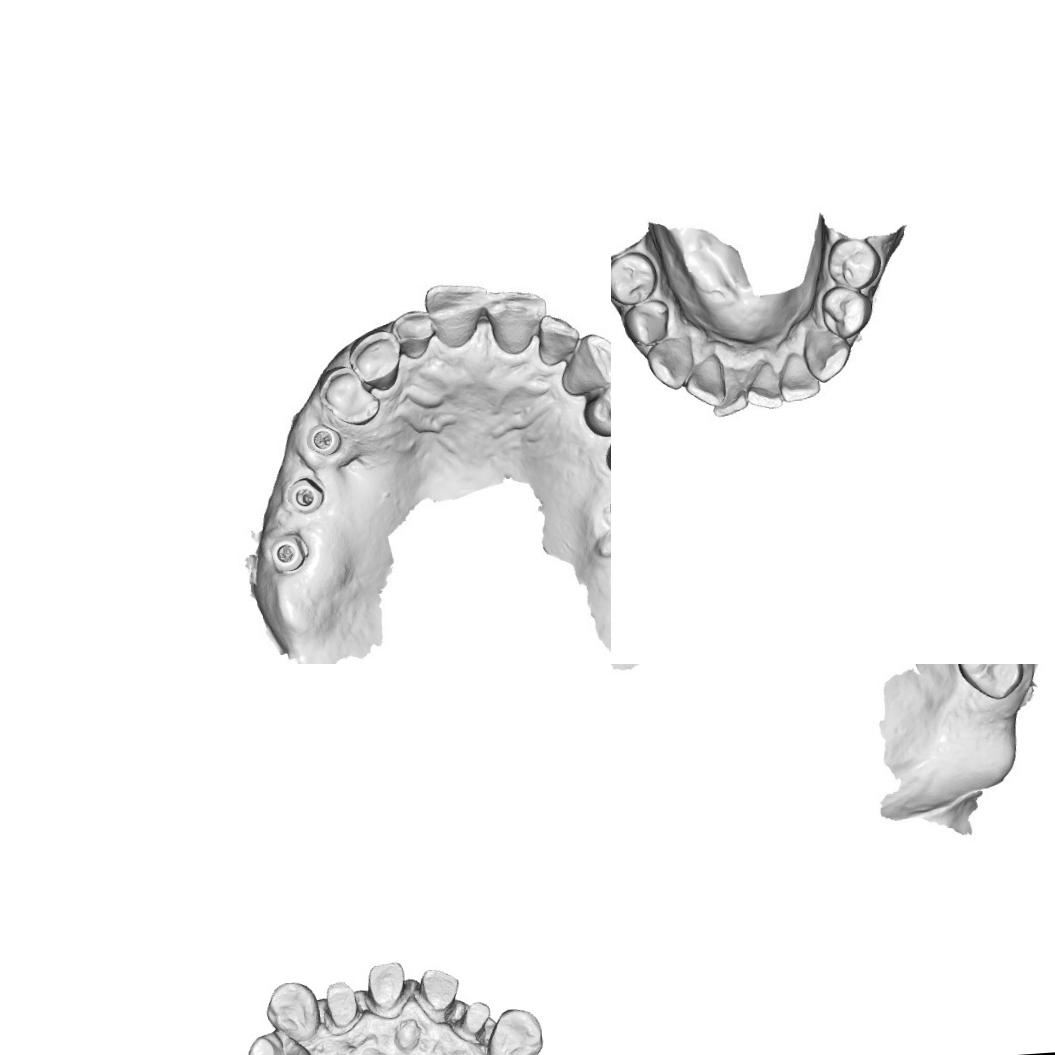canine: (262, 978, 322, 1044), (556, 326, 611, 397), (348, 328, 404, 390), (482, 1004, 545, 1055), (649, 332, 696, 394), (806, 328, 854, 386)
crown: (360, 958, 409, 1020), (415, 964, 462, 1025), (320, 976, 362, 1034), (454, 999, 492, 1042)
implant: (267, 526, 316, 577), (279, 472, 328, 516), (304, 417, 346, 455)
incisor: (480, 283, 545, 356), (432, 280, 490, 344), (686, 352, 730, 405), (394, 308, 436, 362), (535, 316, 579, 366), (712, 374, 748, 423), (749, 363, 785, 411), (784, 354, 815, 398)
premolar: (318, 364, 380, 428), (953, 664, 1023, 705), (825, 242, 878, 294), (815, 287, 868, 336), (241, 1025, 318, 1055), (625, 302, 671, 342), (611, 257, 650, 299), (588, 379, 611, 434)
